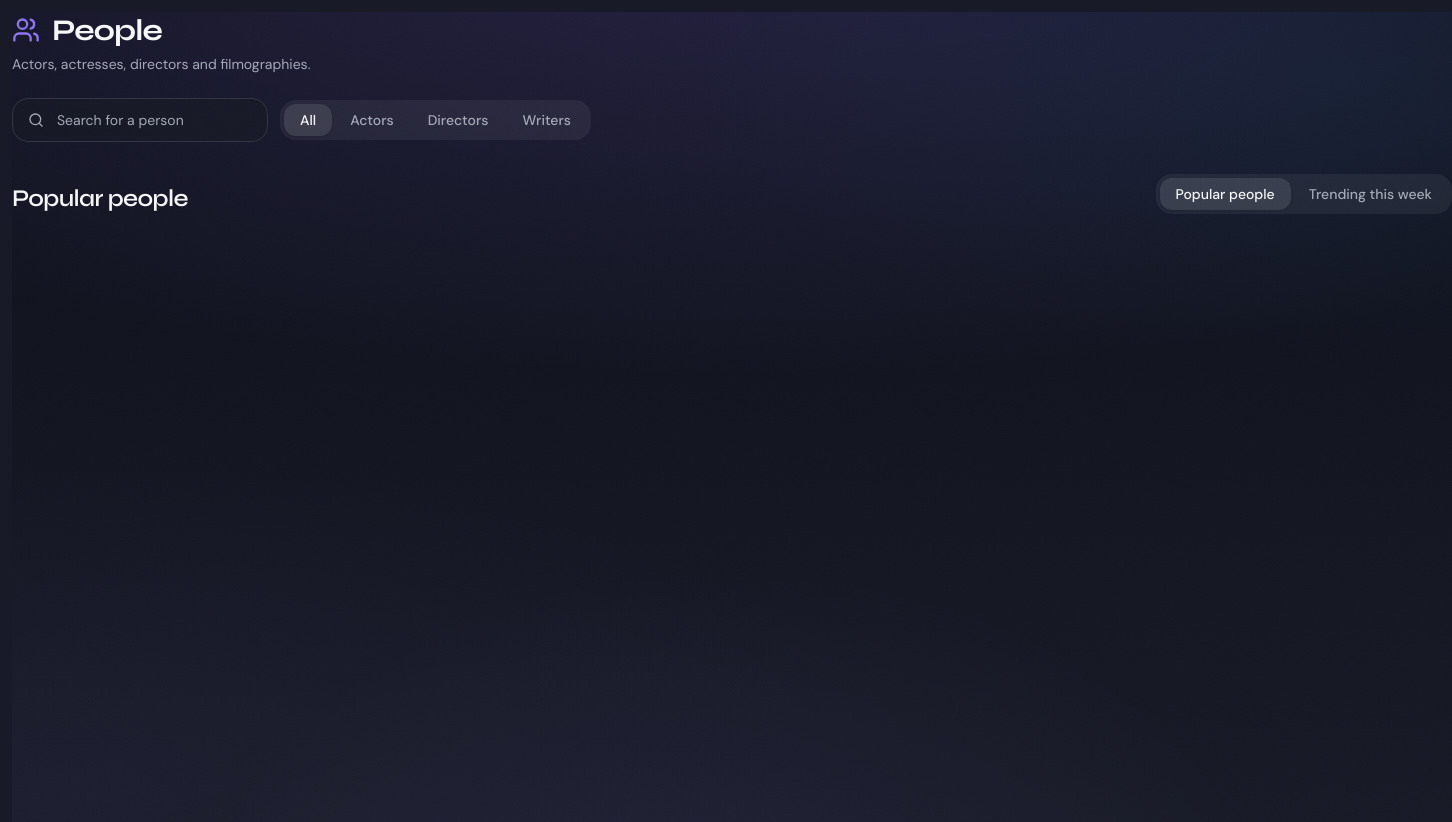
Scenario: PeoplePage › filters the browse list by department
Click the button "Directors": (458, 120) [412, 104, 504, 136]
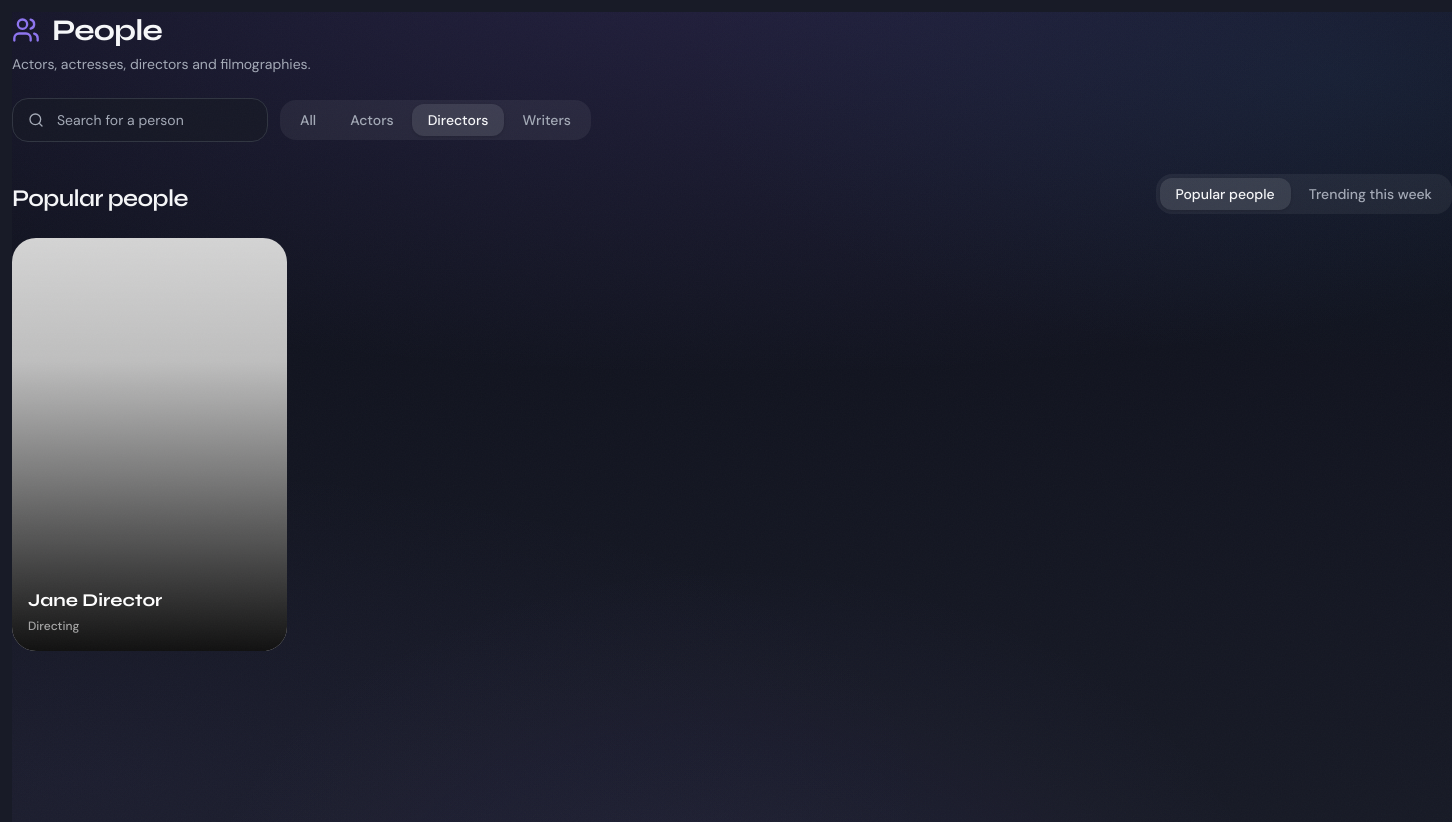
Expected: the text "Jane Director" is shown, [28, 590, 162, 612]
